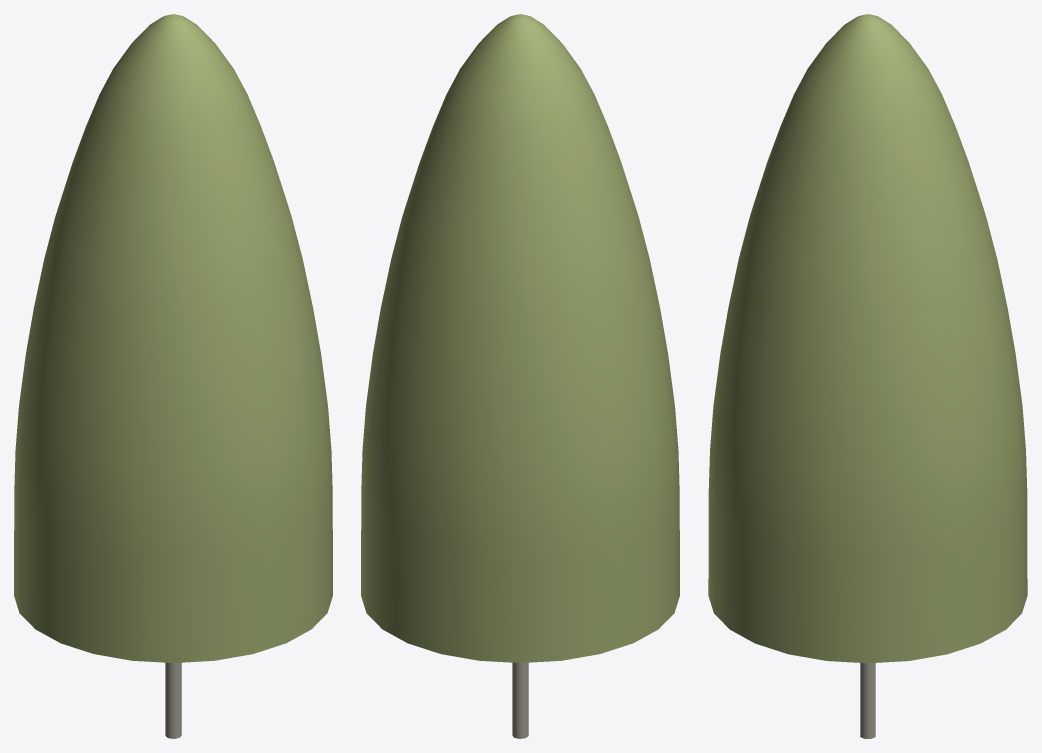
Rendered from LarixDecidua.glb.
3 views of the same model, side by side, from view 1: azimuth 30°, elevation 25°; view 2: azimuth 150°, elevation 25°; view 3: azimuth 270°, elevation 25° (orthographic).
Visible parts, largest first — view 1: European_Larch__Schematic_LOD3; view 2: European_Larch__Schematic_LOD3; view 3: European_Larch__Schematic_LOD3.
Part boxes in pixels (x1=…): European_Larch__Schematic_LOD3: x1=14, y1=14, x2=332, y2=738; European_Larch__Schematic_LOD3: x1=361, y1=14, x2=679, y2=738; European_Larch__Schematic_LOD3: x1=708, y1=14, x2=1027, y2=738.
Bounding box in the file's own units: 7.32 × 18.27 × 7.32.
